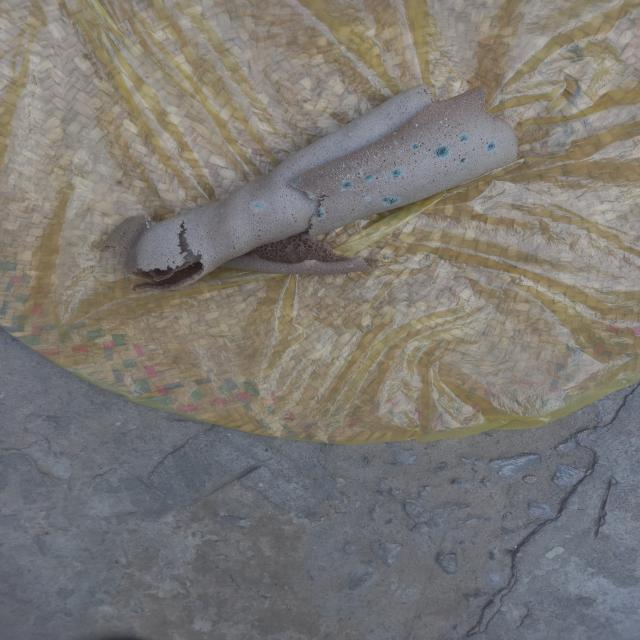injera_mold: (245, 199, 268, 214), (431, 143, 449, 160), (287, 174, 303, 190), (458, 131, 472, 146), (338, 168, 355, 180), (457, 154, 471, 168), (313, 206, 326, 219), (484, 140, 498, 152), (379, 196, 397, 204), (440, 116, 452, 128), (340, 180, 354, 190), (391, 168, 402, 180), (360, 175, 380, 181), (411, 140, 419, 154), (144, 220, 153, 229), (346, 261, 356, 269)
